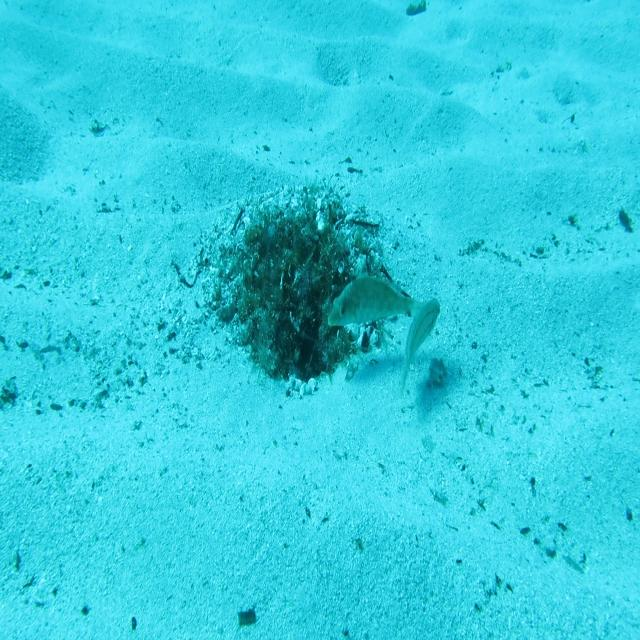BK_SW: (325, 270, 428, 331)
core_nest: (271, 228, 319, 260)
female: (400, 296, 442, 401)
nest: (211, 180, 419, 410)
vegetation: (406, 0, 427, 18)
